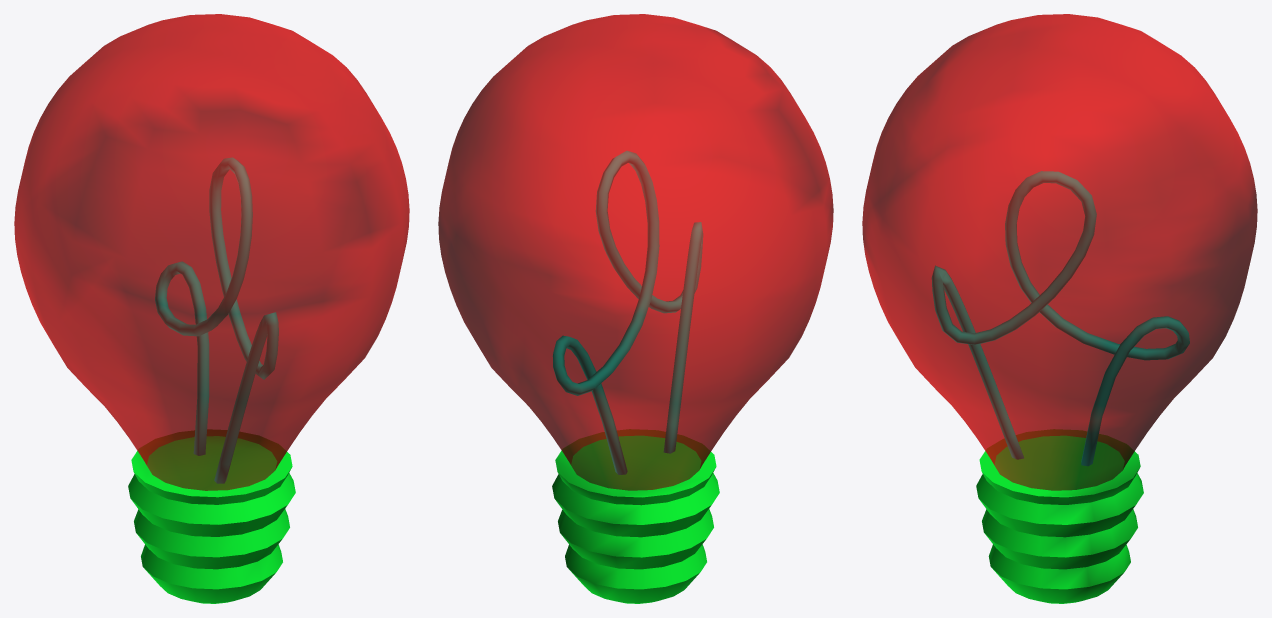
File: SM_Bulb.FBX
3 views of the same model, side by side, from view 1: azimuth 30°, elevation 25°; view 2: azimuth 150°, elevation 25°; view 3: azimuth 270°, elevation 25° (orthographic).
Parts seen in each view (by area): view 1: SM_Bulb_LOD0; view 2: SM_Bulb_LOD0; view 3: SM_Bulb_LOD0.
Part boxes in pixels (x1,y1,x2,y2): SM_Bulb_LOD0: (14, 14, 409, 603); SM_Bulb_LOD0: (438, 14, 833, 603); SM_Bulb_LOD0: (862, 14, 1257, 603).
Size of what is drawn, in the model's own units: 4.58 by 7.11 by 4.59.
